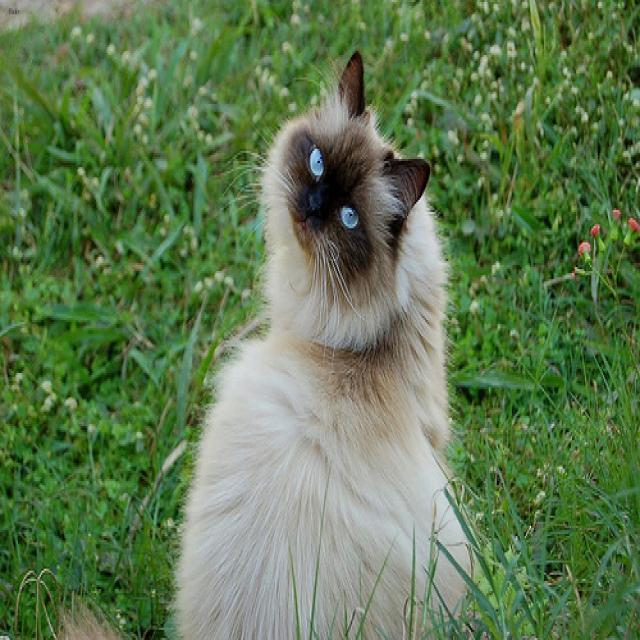Birman: (261, 48, 439, 363)
